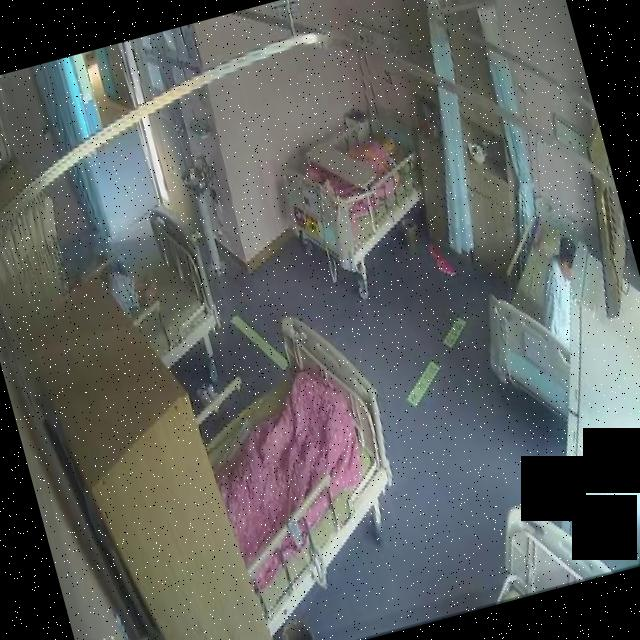bed: (177, 301, 420, 604), (251, 86, 448, 308), (456, 209, 623, 436), (93, 198, 230, 378)
patient: (509, 215, 594, 358)
